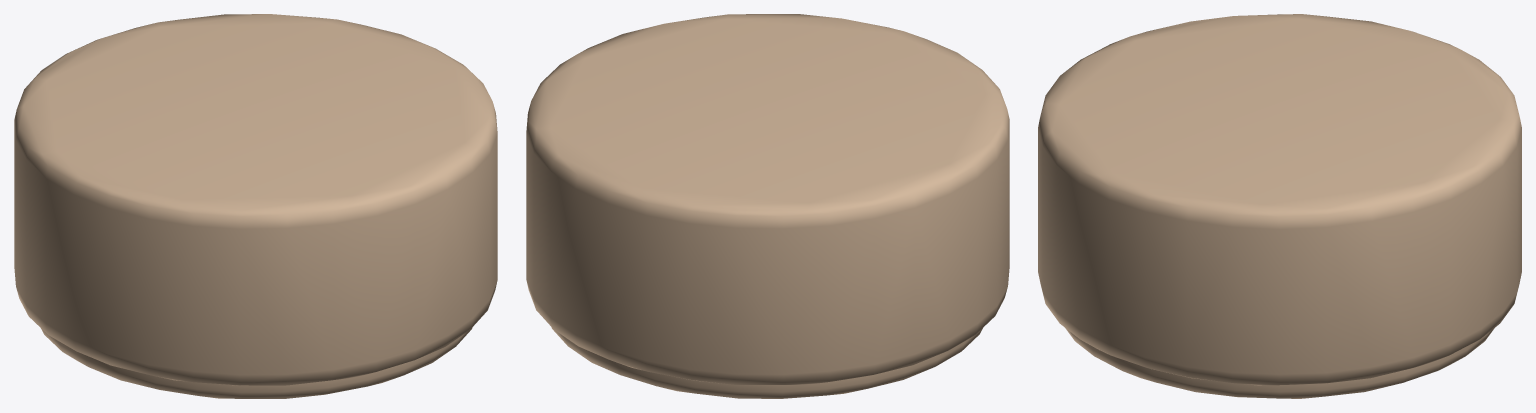
Rendered from stool_04_beige.fbx.
The picture shows the model from 3 angles, left to right: view 1: azimuth 30°, elevation 25°; view 2: azimuth 150°, elevation 25°; view 3: azimuth 270°, elevation 25°; orthographic projection.
Visible parts, largest first — view 1: stool_04_beige; view 2: stool_04_beige; view 3: stool_04_beige.
Boxes of the visible parts, <box> form: stool_04_beige: <box>14,14,497,398</box>; stool_04_beige: <box>526,14,1009,398</box>; stool_04_beige: <box>1038,14,1521,398</box>.
Size of the model in its own units: 86.76 by 38.97 by 86.76.
2 materials, 2 textured.
